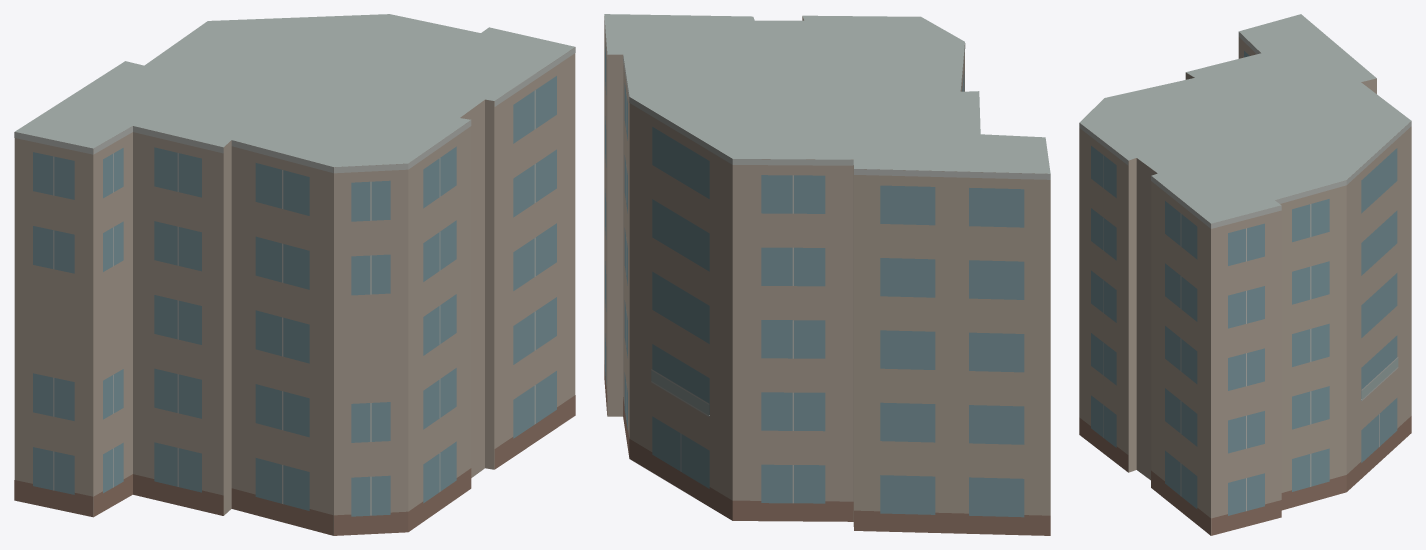
The model's file is survey-upis-32660702.glb.
3 views of the same model, side by side, from view 1: azimuth 30°, elevation 25°; view 2: azimuth 150°, elevation 25°; view 3: azimuth 270°, elevation 25° (orthographic). The views are drawn at different scales.
Parts seen in each view (by area): view 1: survey-upis-32660702.tmp; view 2: survey-upis-32660702.tmp; view 3: survey-upis-32660702.tmp.
Boxes of the visible parts, left/top/right/bottom form: survey-upis-32660702.tmp: left=14, top=14, right=575, bottom=535; survey-upis-32660702.tmp: left=604, top=14, right=1050, bottom=535; survey-upis-32660702.tmp: left=1079, top=14, right=1411, bottom=535.
Bounding box in the file's own units: 21.05 × 14.6 × 14.09.
